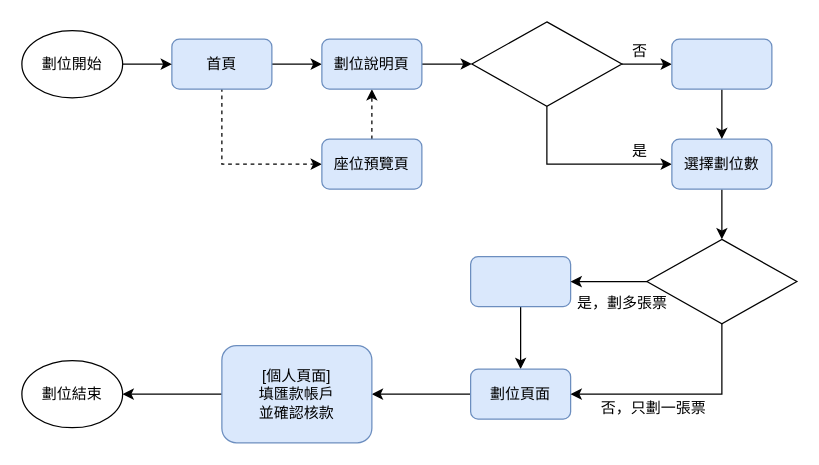
The diagram is 819 pixels wide and 465 high, and some of its shapes have lost their labels. Here are the shapes that lost their labels. From the top down, the centre of each, then its label:
At point (546, 63): "是否已登入?".
At point (721, 63): "註冊登入頁".
At point (520, 281): "[個人頁面] 填朋友資料".
At point (721, 281): "有同行朋友?".
